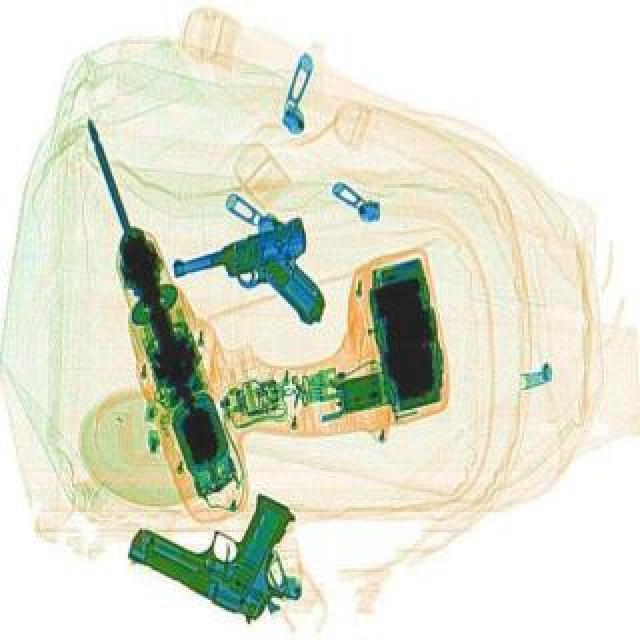gun: (118, 448, 330, 628), (168, 214, 340, 356)
